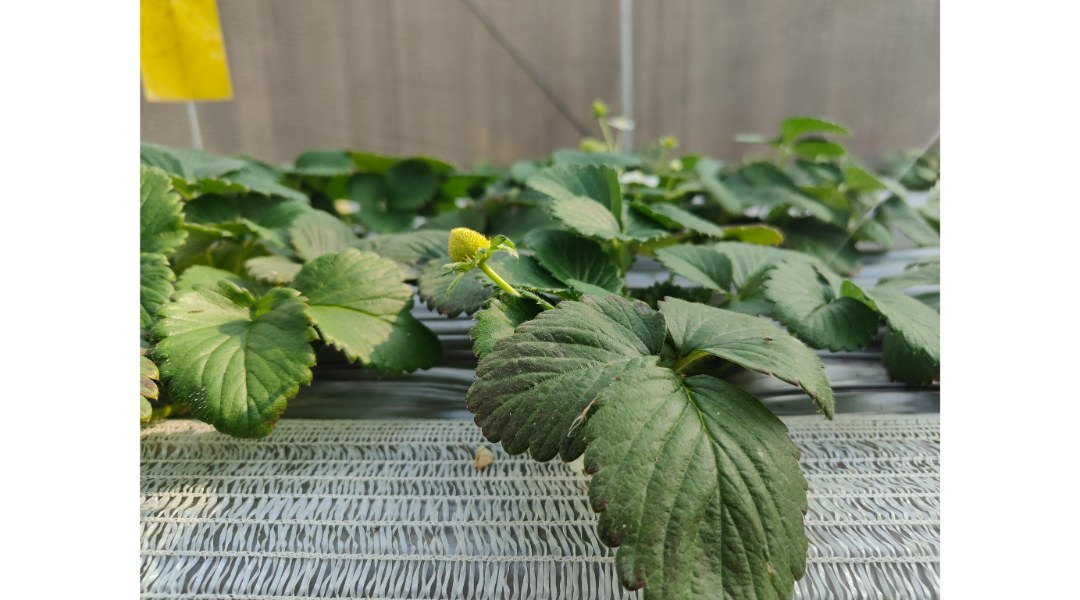berry: (442, 215, 494, 277)
